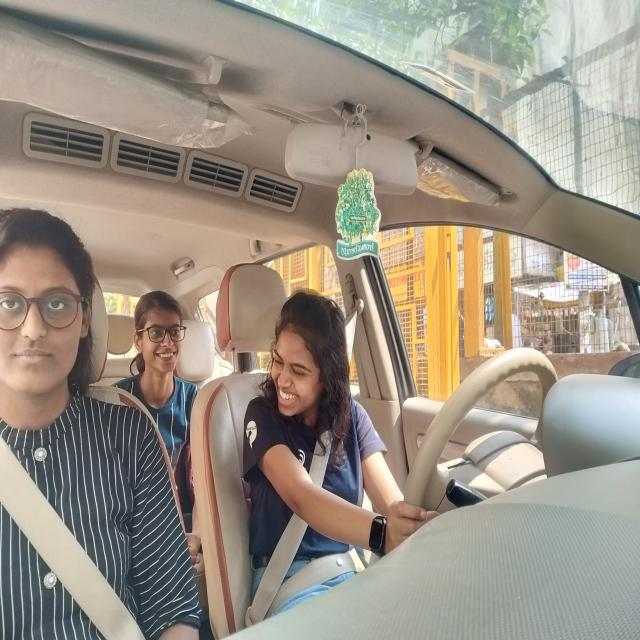LeftRight: (263, 270, 363, 464)
person: (0, 202, 103, 435), (129, 276, 197, 392)
talking: (276, 378, 306, 416)
